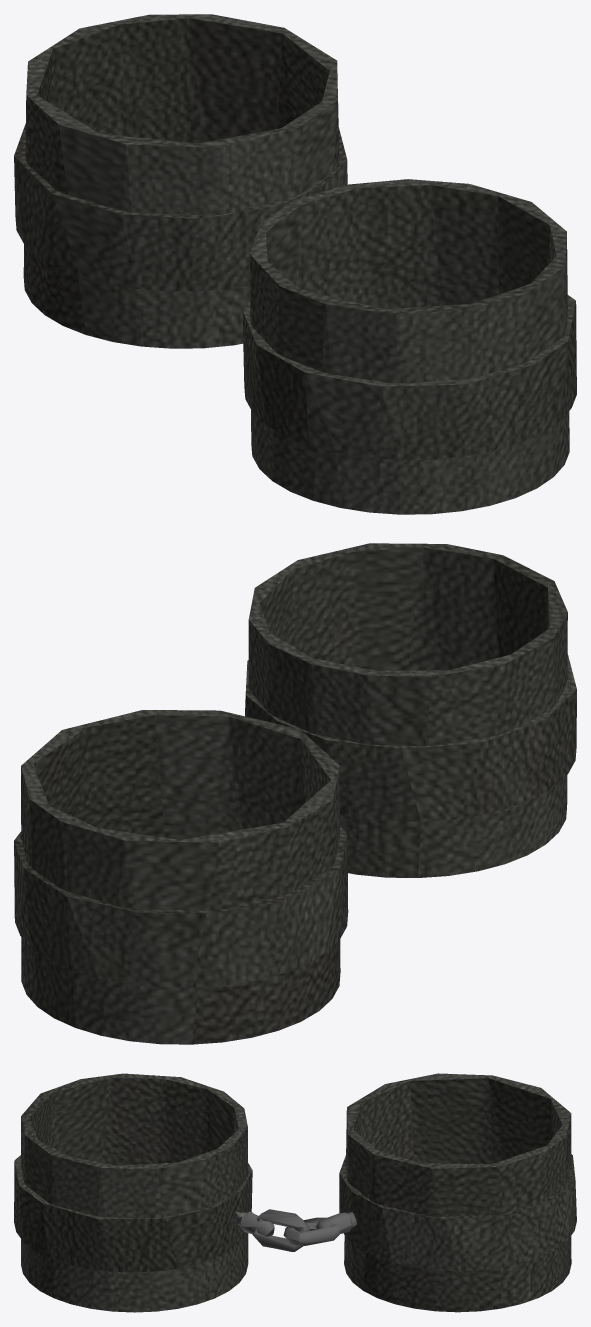
Rendered from LeatherCuffs_Ground.fbx.
3 views of the same model, one above another, from view 1: azimuth 30°, elevation 25°; view 2: azimuth 150°, elevation 25°; view 3: azimuth 270°, elevation 25° (orthographic). The views are drawn at different scales.
Parts seen in each view (by area): view 1: Cuffs_ground; view 2: Cuffs_ground; view 3: Cuffs_ground.
Boxes of the visible parts, left/top/right/bottom form: Cuffs_ground: left=14, top=14, right=576, bottom=514; Cuffs_ground: left=14, top=543, right=576, bottom=1044; Cuffs_ground: left=14, top=1073, right=576, bottom=1312.
Size of the model in its own units: 0.0681 by 0.0449 by 0.1602.
